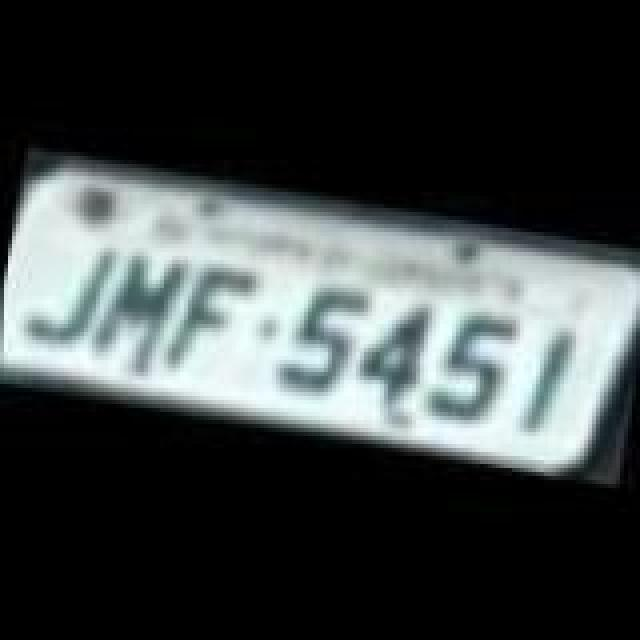1: (514, 316, 578, 436)
4: (346, 290, 434, 422)
5: (272, 280, 368, 404), (424, 310, 516, 434)
F: (160, 252, 264, 384)
J: (14, 228, 122, 356)
M: (86, 242, 194, 370)
